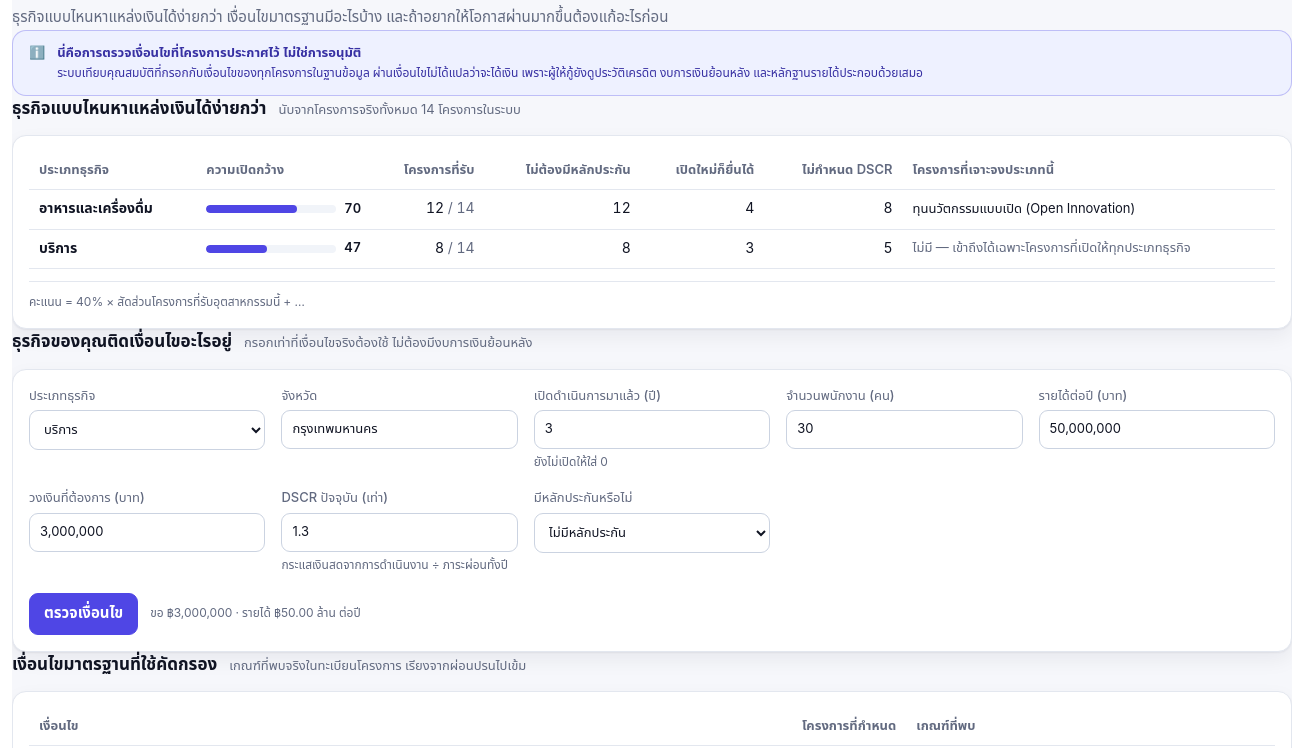
Scenario: เงื่อนไขที่ปลดล็อกได้ › แสดงจำนวนที่ปลดล็อกได้เฉพาะข้อที่ปลดล็อกได้จริง
Step 1. Click the button "ตรวจเงื่อนไข" → (84, 614), box [29,593,138,635]
(page scrolled)
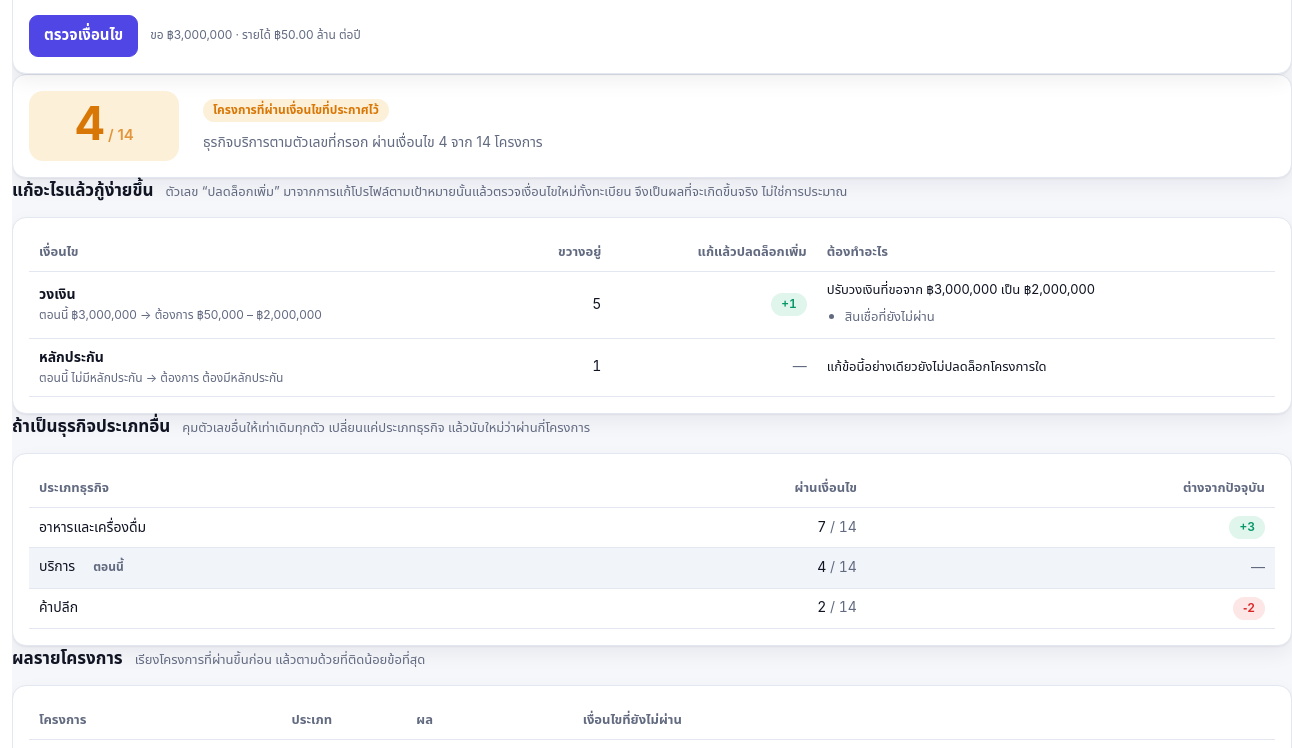
Check: the heading "แก้อะไรแล้วกู้ง่ายขึ้น" is shown, box [12,178,153,205]
Check: the text "+1" is shown, box [771,293,807,316]
Check: the text "ตอนนี้ ฿3,000,000 → ต้องการ ฿50,000 – ฿2,000,000" is shown, box [39,306,322,324]
